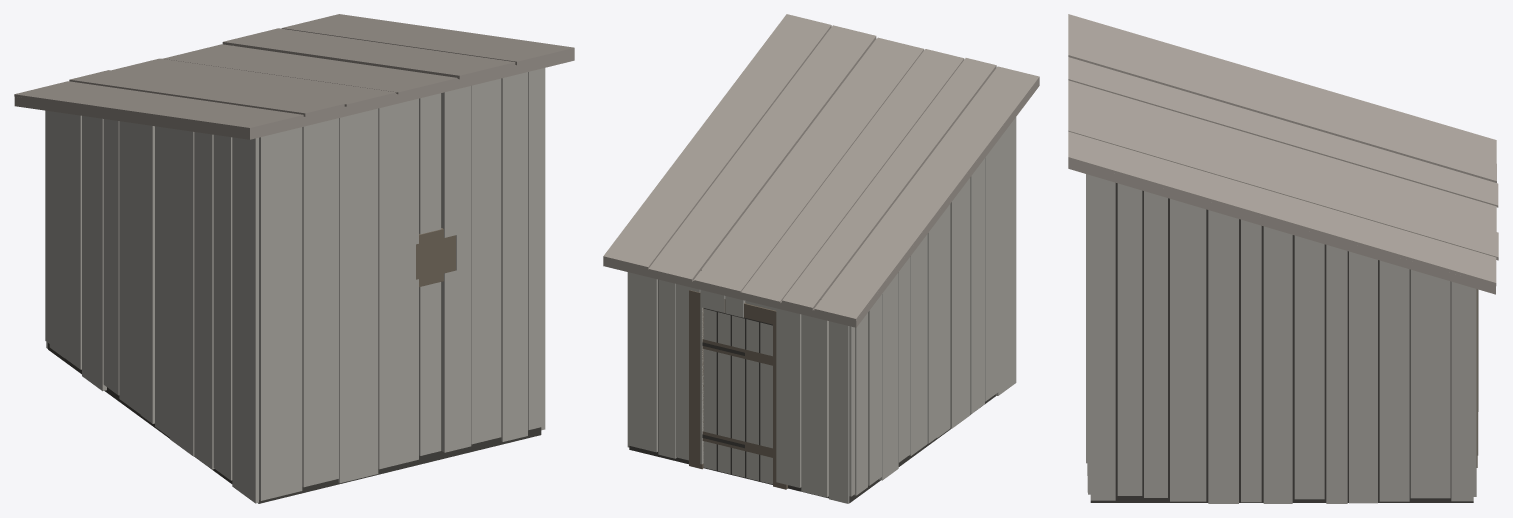
The model's file is recon_1835_blk_randolph_clark_a4_07__inferred_1835.glb.
3 views of the same model, side by side, from view 1: azimuth 30°, elevation 25°; view 2: azimuth 150°, elevation 25°; view 3: azimuth 270°, elevation 25° (orthographic). The views are drawn at different scales.
Parts seen in each view (by area): view 1: recon_1835_blk_randolph_clark_a4_07__inferred_1835; view 2: recon_1835_blk_randolph_clark_a4_07__inferred_1835; view 3: recon_1835_blk_randolph_clark_a4_07__inferred_1835.
Boxes of the visible parts, left/top/right/bottom form: recon_1835_blk_randolph_clark_a4_07__inferred_1835: left=14, top=14, right=574, bottom=503; recon_1835_blk_randolph_clark_a4_07__inferred_1835: left=603, top=14, right=1039, bottom=503; recon_1835_blk_randolph_clark_a4_07__inferred_1835: left=1068, top=14, right=1498, bottom=503.
Bounding box in the file's own units: 3.07 × 3.54 × 3.88.
